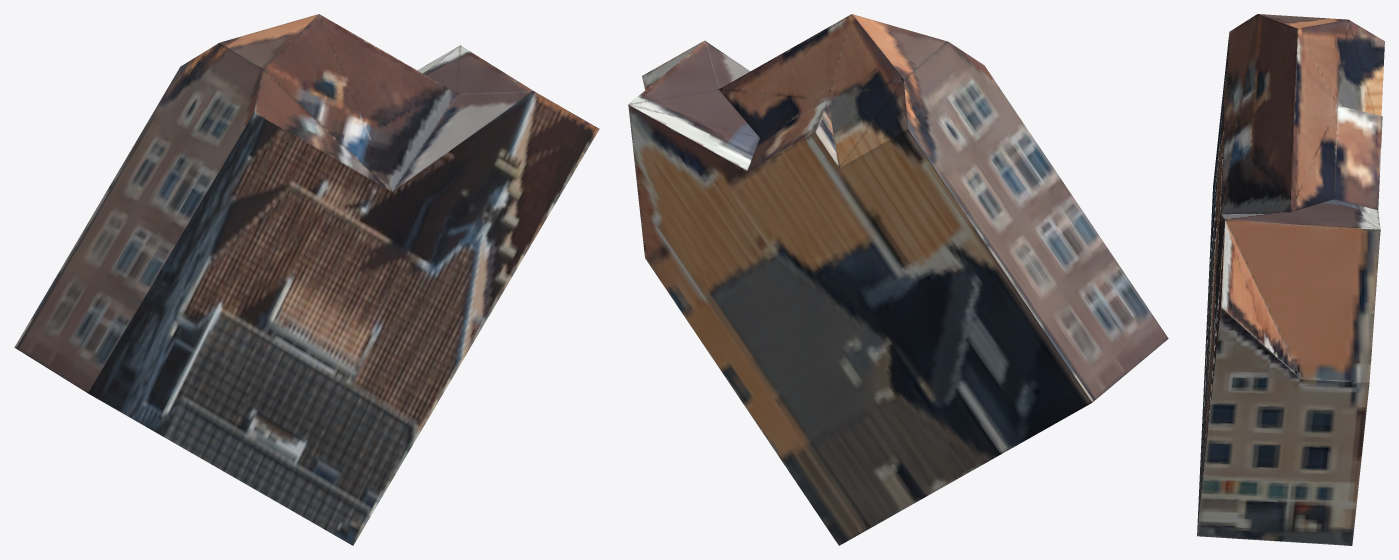
The picture shows the model from 3 angles, left to right: view 1: azimuth 30°, elevation 25°; view 2: azimuth 150°, elevation 25°; view 3: azimuth 270°, elevation 25°; orthographic projection. The views are drawn at different scales.
Visible parts, largest first — view 1: BAG_0599100000760365 (×3); view 2: BAG_0599100000760365 (×5); view 3: BAG_0599100000760365 (×5).
Boxes of the visible parts, <box> form: BAG_0599100000760365 (×3): <box>14,14,599,545</box>; BAG_0599100000760365 (×5): <box>628,14,1168,545</box>; BAG_0599100000760365 (×5): <box>1197,14,1384,545</box>.
Bounding box in the file's own units: 25.21 × 23.46 × 7.62.
1 material, 1 textured.
